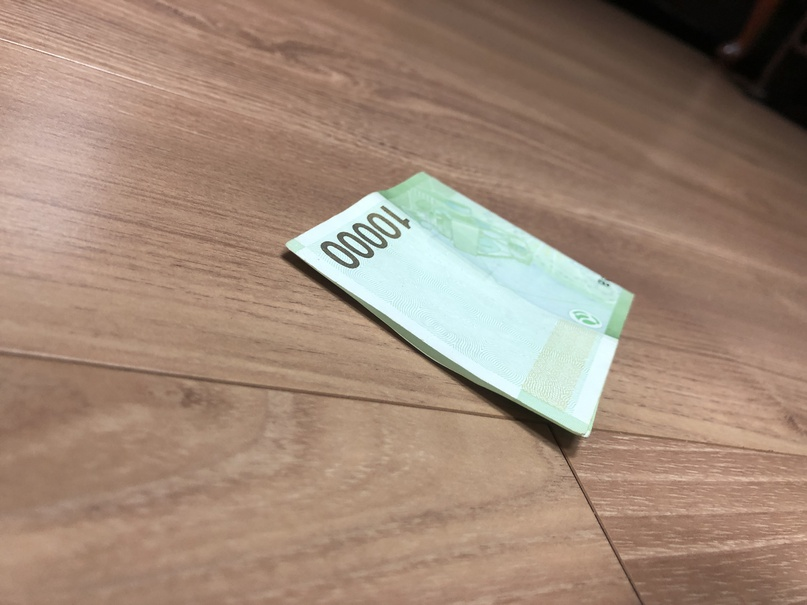10000won: (285, 170, 634, 439)
